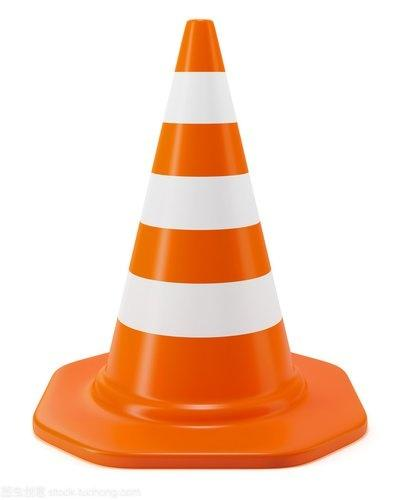cone_barrel: (93, 19, 315, 430)
